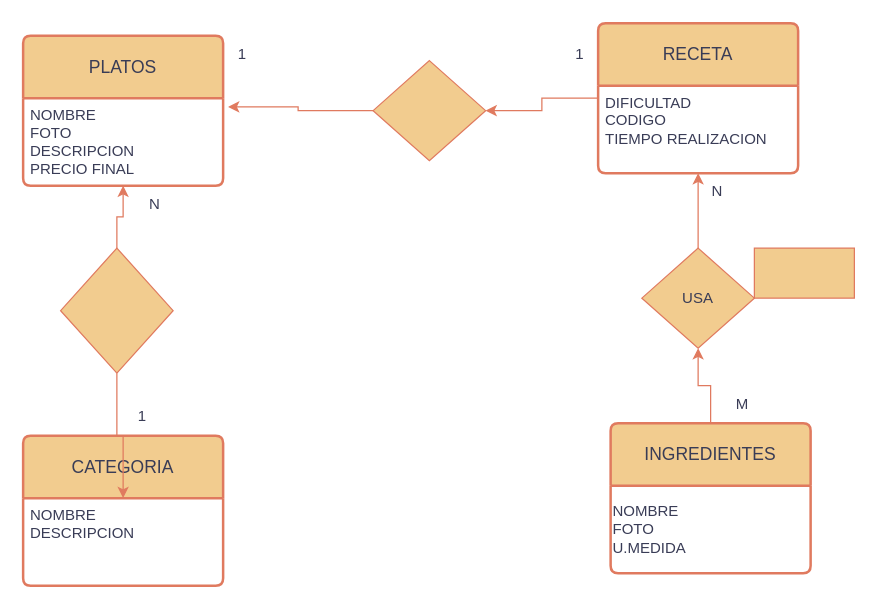
Image size: 876x608. Some labels were removed from this diagram. The shapes that lost their labels are listed below. From the top down, each one's centre as x and y in pixels, then its label:
At [429,110]: "SIRVE PARA".
At [803,272]: "CANTIDAD".
At [116,310]: "PERTENECE".
